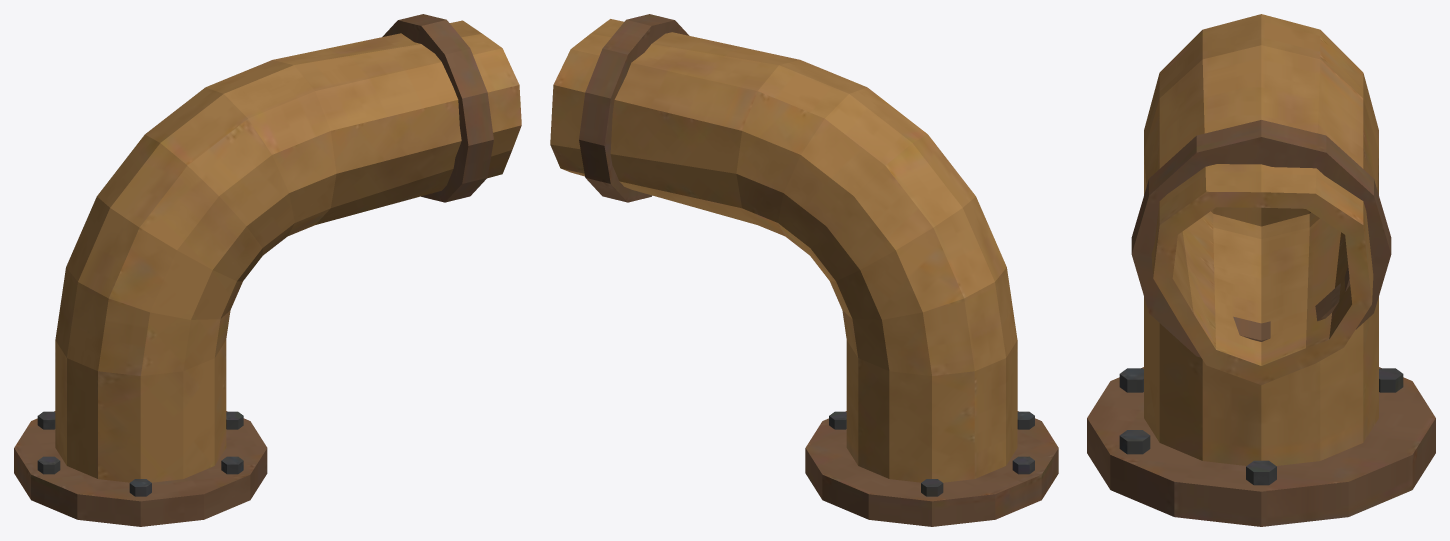
Rendered from D26_pipe_pieces_v2.glb.
3 renders of one model, left to right at view 1: azimuth 30°, elevation 25°; view 2: azimuth 150°, elevation 25°; view 3: azimuth 270°, elevation 25°, orthographic. The views are drawn at different scales.
Visible parts, largest first — view 1: Battered elbow; view 2: Battered elbow; view 3: Battered elbow.
Boxes of the visible parts, x1,y1,x2,y2 form: Battered elbow: (14,14,521,526); Battered elbow: (550,14,1058,526); Battered elbow: (1087,14,1435,526).
Size of the model in its own units: 1 by 0.8023 by 0.4859.
Materials: 3 (3 with a texture image).
